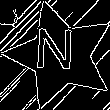N_S: (38, 30, 82, 82)
